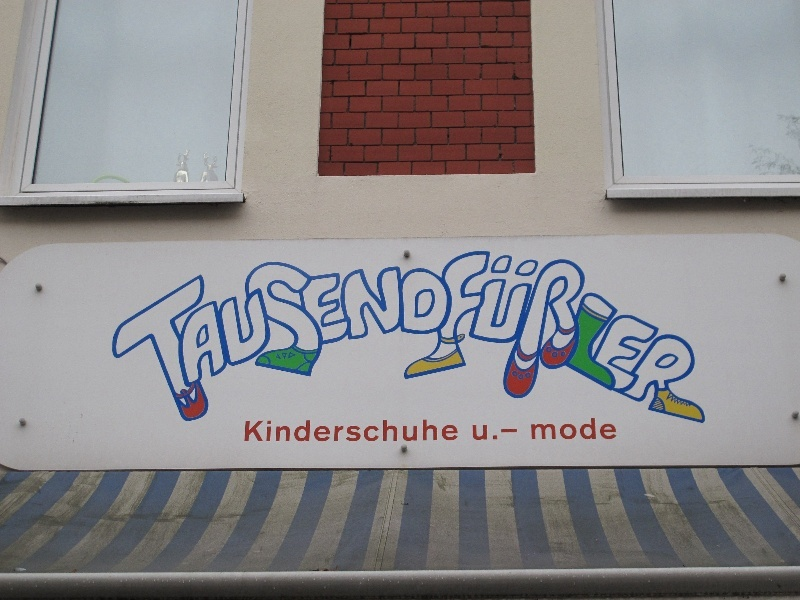text: (129, 249, 144, 424), (145, 249, 160, 424), (161, 249, 176, 424), (177, 249, 192, 424), (193, 249, 208, 424), (209, 249, 224, 424), (225, 249, 240, 424), (241, 249, 256, 424), (257, 249, 272, 424), (273, 249, 288, 424), (289, 249, 304, 424), (305, 249, 320, 424), (321, 249, 336, 424), (337, 249, 352, 424), (353, 249, 368, 424), (369, 249, 384, 424), (385, 249, 400, 424), (401, 249, 416, 424), (417, 249, 432, 424), (433, 249, 448, 424), (449, 249, 464, 424), (465, 249, 480, 424), (481, 249, 496, 424), (497, 249, 512, 424), (513, 249, 528, 424), (529, 249, 544, 424), (545, 249, 560, 424), (561, 249, 576, 424), (577, 249, 592, 424), (593, 249, 608, 424), (609, 249, 624, 424), (625, 249, 640, 424), (641, 249, 656, 424), (657, 249, 672, 424), (673, 249, 688, 424), (114, 249, 128, 424), (689, 249, 703, 424), (257, 420, 272, 443), (273, 420, 288, 443), (289, 420, 304, 443), (305, 420, 320, 443), (321, 420, 336, 443), (337, 420, 352, 443), (353, 420, 368, 443), (369, 420, 384, 443), (385, 420, 400, 443), (401, 420, 416, 443), (417, 420, 432, 443), (433, 420, 448, 443), (545, 419, 560, 442), (561, 419, 576, 442), (577, 419, 592, 442), (593, 419, 608, 442), (532, 419, 544, 442), (481, 424, 496, 441), (246, 420, 256, 443), (449, 420, 458, 443), (609, 419, 616, 442), (473, 424, 480, 441), (503, 429, 512, 433), (513, 429, 518, 433), (497, 424, 498, 441)
